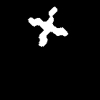single_crochet: (28, 7, 67, 45)
